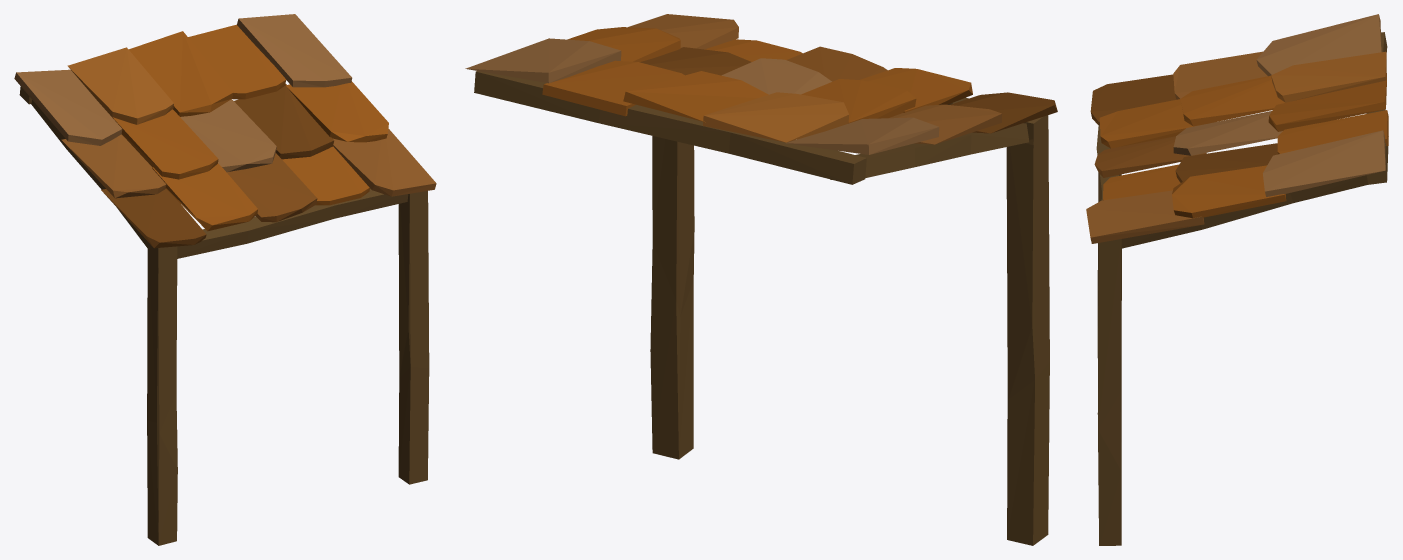
File: DoorRoof_01.fbx
3 views of the same model, side by side, from view 1: azimuth 30°, elevation 25°; view 2: azimuth 150°, elevation 25°; view 3: azimuth 270°, elevation 25° (orthographic). The views are drawn at different scales.
Visible parts, largest first — view 1: DoorRoof_01; view 2: DoorRoof_01; view 3: DoorRoof_01.
Part boxes in pixels (left/top/right/bottom): DoorRoof_01: left=14, top=14, right=436, bottom=545; DoorRoof_01: left=465, top=14, right=1057, bottom=545; DoorRoof_01: left=1086, top=14, right=1388, bottom=545.
Size of the model in its own units: 2.03 by 2.58 by 1.8.
